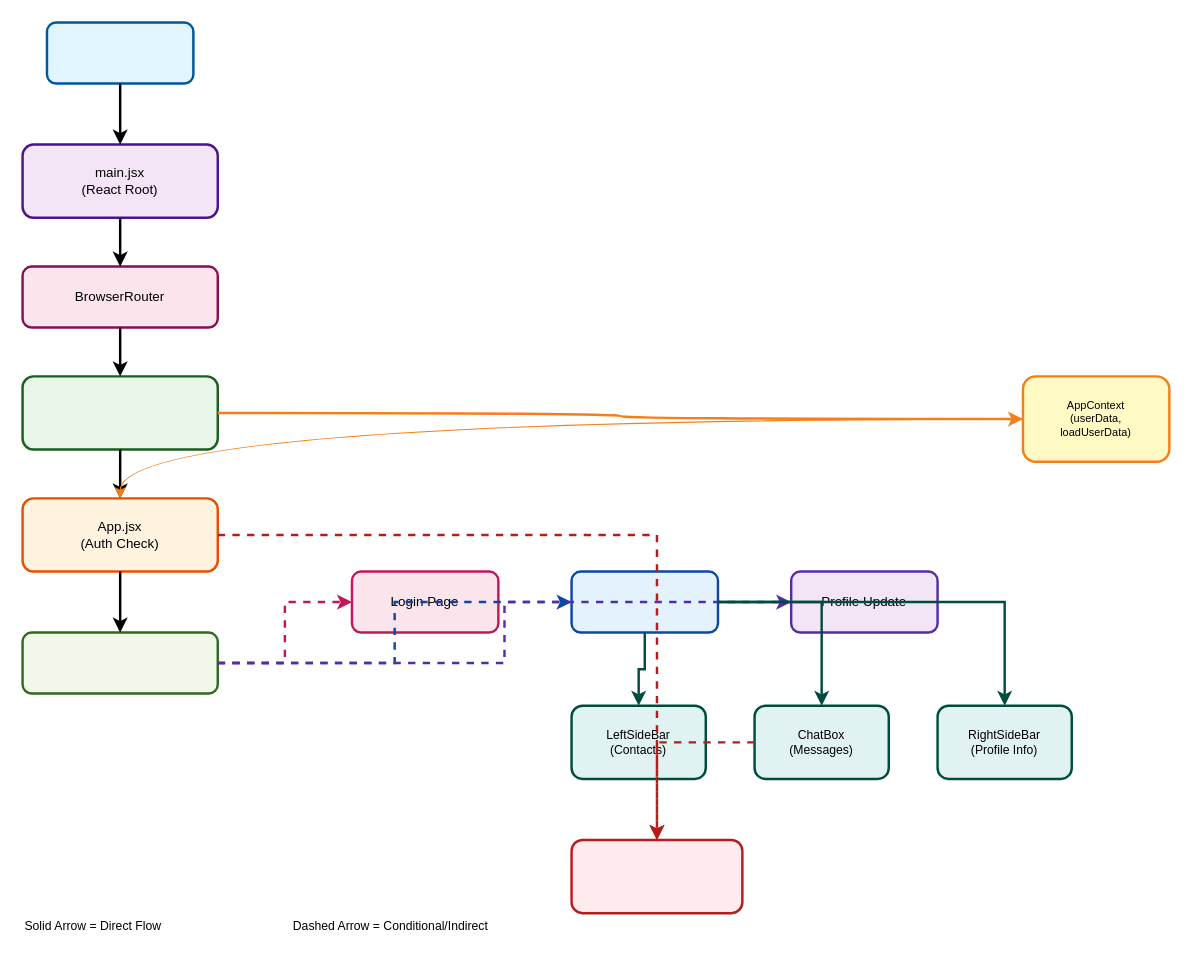
This 1191x958 diagram has some shape labels left out. The shapes that lost their labels are listed below. From the top down, each one's centre as x and y in pixels, then its label:
At (119,52): "index.html".
At (119,412): "AppContextProvider (Global State)".
At (644,601): "Chat Page".
At (119,662): "Routes".
At (656,876): "Firebase (Auth + Database)".
